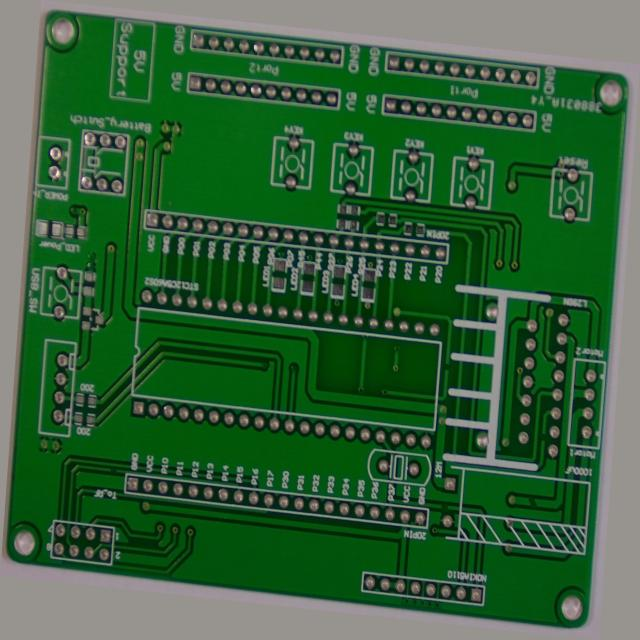open_circuit: (549, 488, 567, 503), (452, 348, 463, 364), (459, 505, 473, 517), (561, 414, 571, 430), (107, 506, 117, 515)
